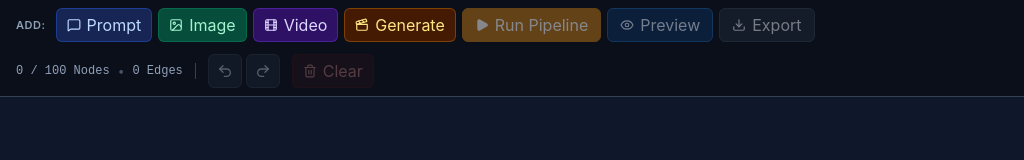
it: CanvasWorkspace Component › adds a prompt node when clicking Add Prompt
The image size is (1024, 160).
Step 1. Click the button with aria-label "add prompt node" → x=104, y=25, box [56,8,152,42]
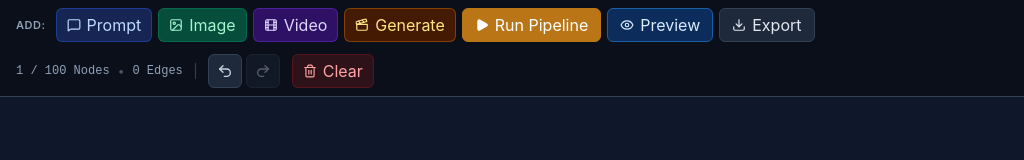
Expected: the text "1 / 100 Nodes" is shown, [16,63,110,79]
